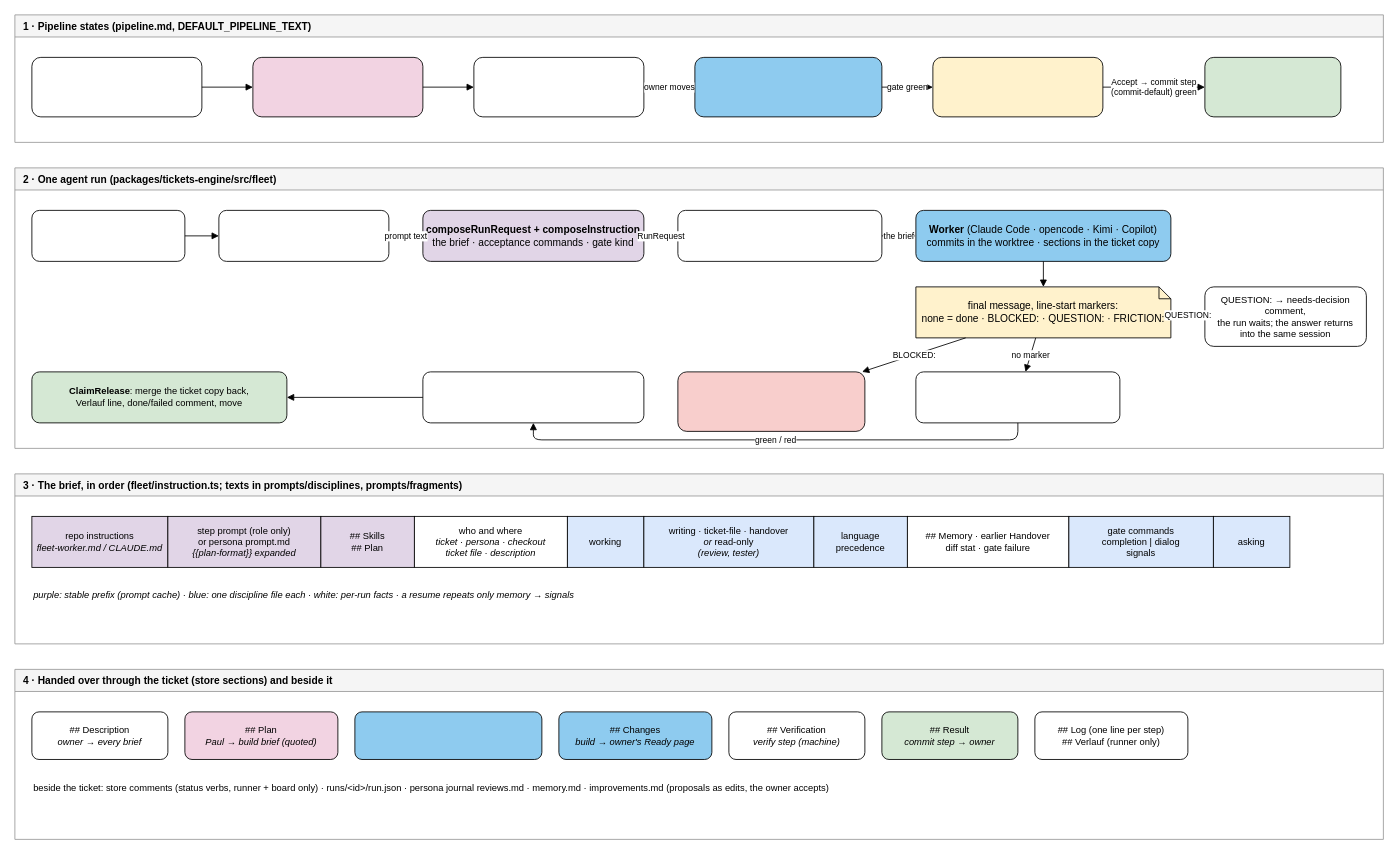
Image size: 1398x854. Some labels were removed from this diagram. Here are the shapes that lost their labels. From the top down, the centre of each, then its label:
At [116,87]: "Inbox owner · Mission Control createTicket".
At [337,87]: "Shaping owner + Paul (shape.md) writes ## Plan".
At [558,87]: "Prioritized owner orders, moves on".
At [788,87]: "Building agent column · claim · WIP 3 prompt build-default".
At [1017,87]: "Ready to try owner checkpoint: Accept or Send back".
At [1272,87]: "Done".
At [108,235]: "TicketDispatch claims the ticket (lease)".
At [303,235]: "PromptSource persona prompt.md, else vault prompts/build-default.md".
At [779,235]: "Runner worktree _worktrees/T-x on t/T-x ticket copy _workcopy/T-x.ticket.md".
At [533,397]: "ClosingRound (on a signal) journal · one lesson · proposal (edits)".
At [771,401]: "BLOCKED: → closing round, blocked comment, park; no gate, no move".
At [1017,397]: "GateRunner acceptance commands in the worktree".
At [448,735]: "## Handover (+ Review feedback) build → next brief, proof: → verify".
